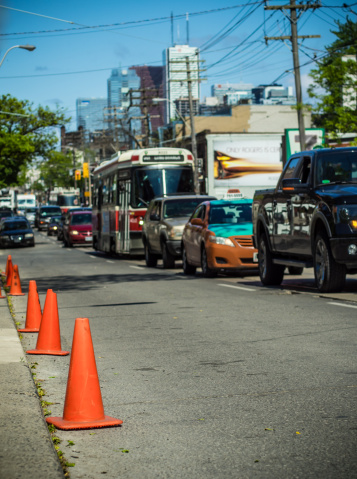trafficcone: (45, 318, 125, 432), (26, 287, 70, 355), (18, 279, 47, 332), (9, 263, 25, 298), (3, 255, 14, 278), (7, 265, 13, 288)
